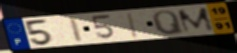5: (23, 18, 55, 47), (90, 15, 118, 41)
I: (67, 16, 85, 43), (126, 12, 141, 39)
M: (175, 6, 217, 35)
Q: (151, 9, 187, 36)
